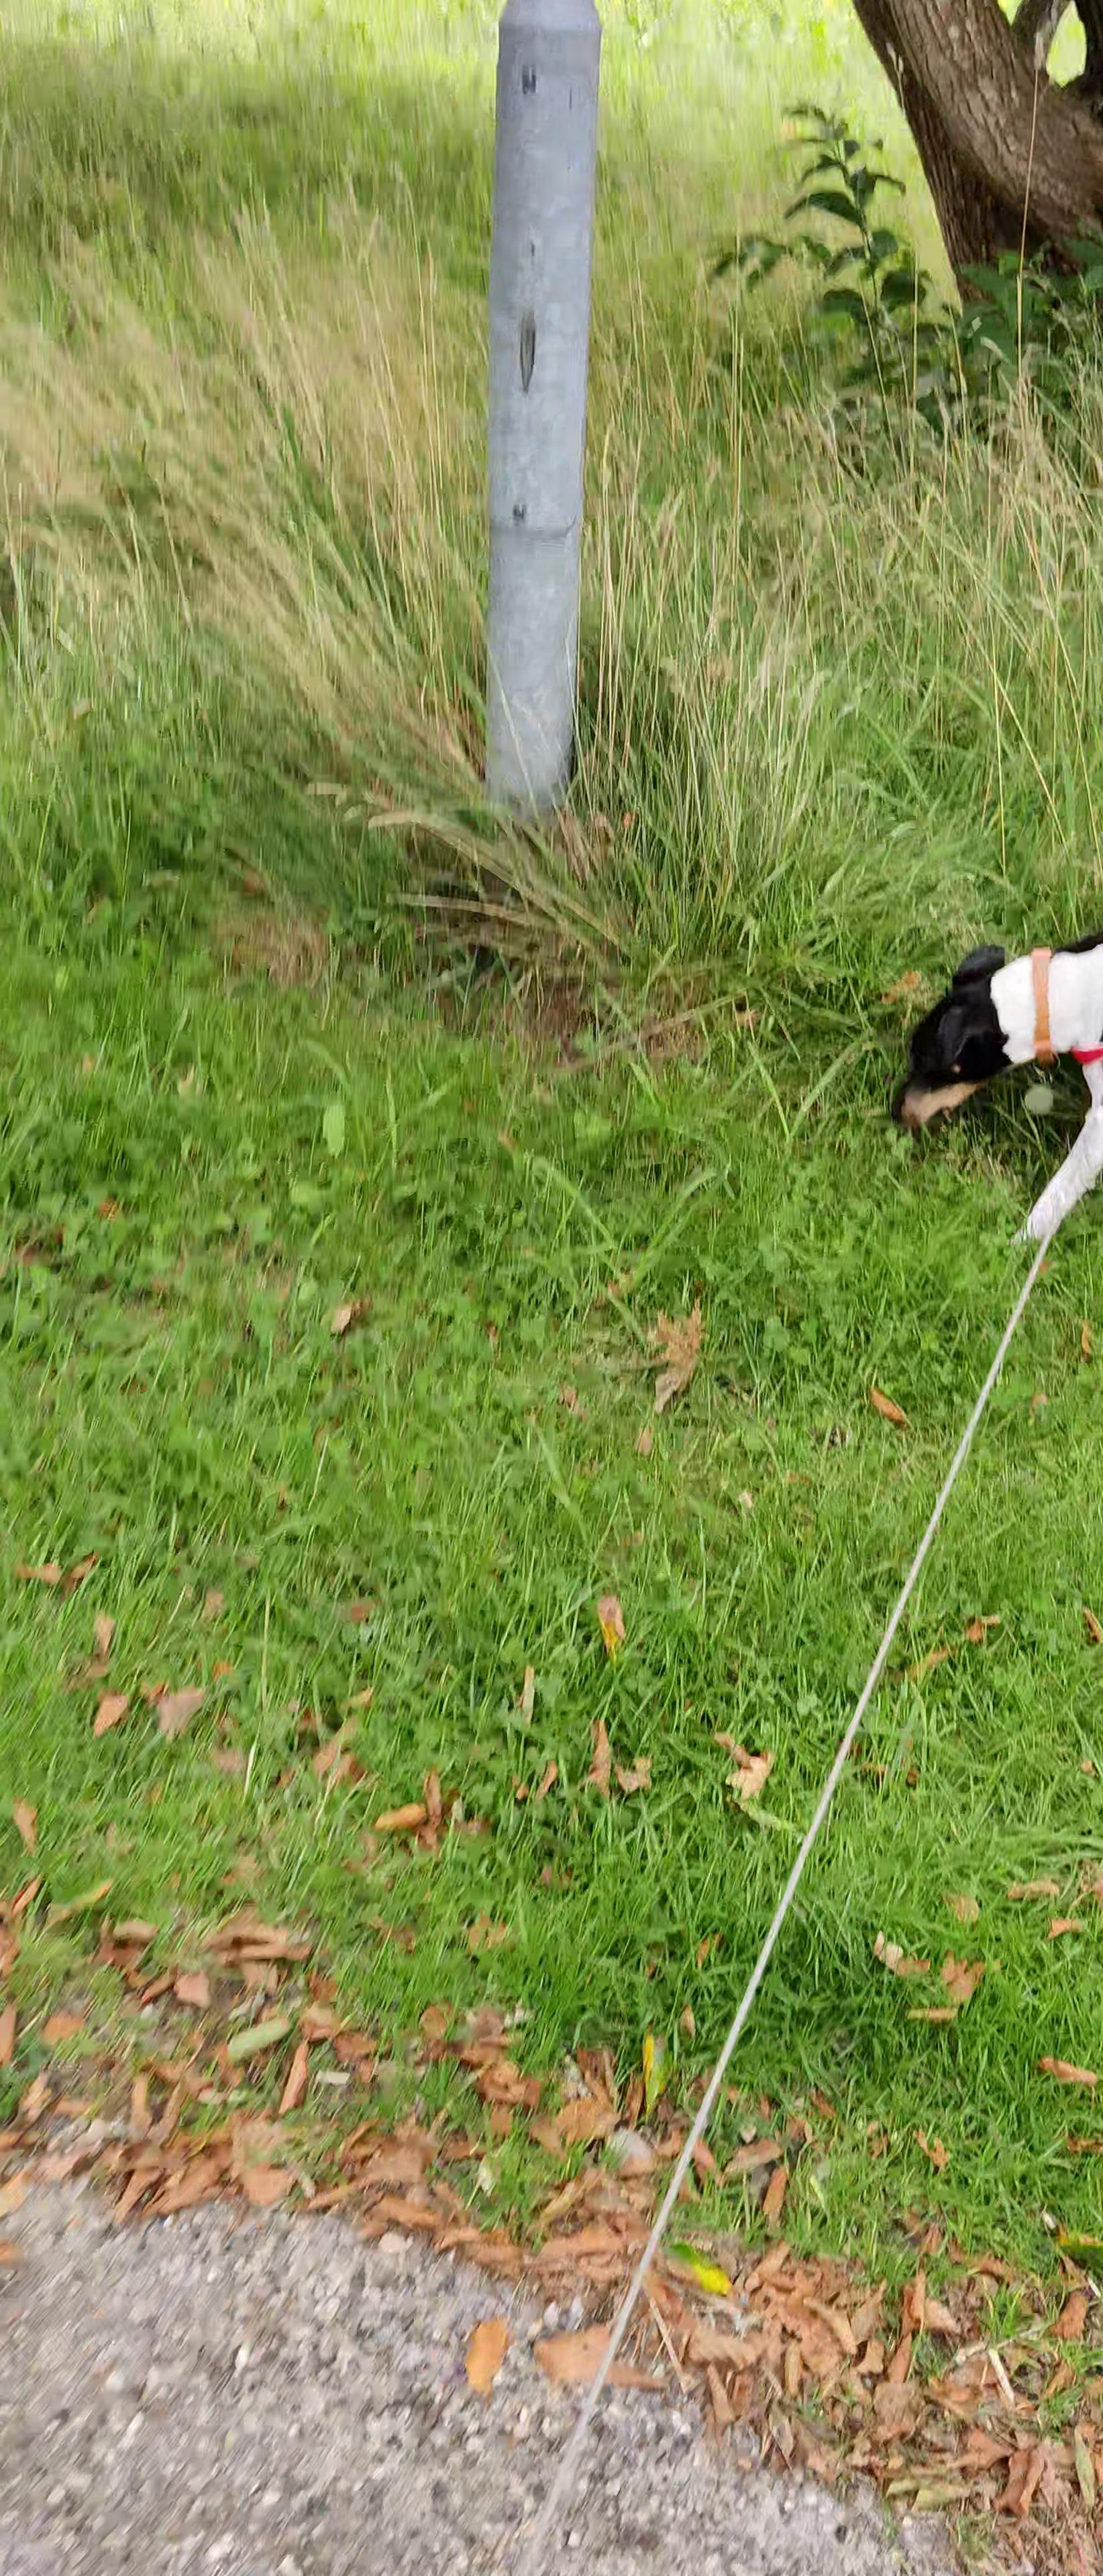Dog: (876, 920, 1103, 1244)
